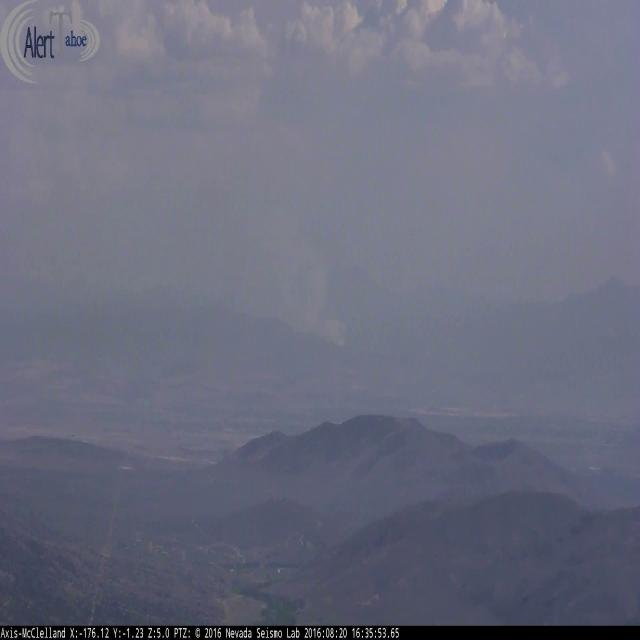smoke: (153, 199, 352, 350)
